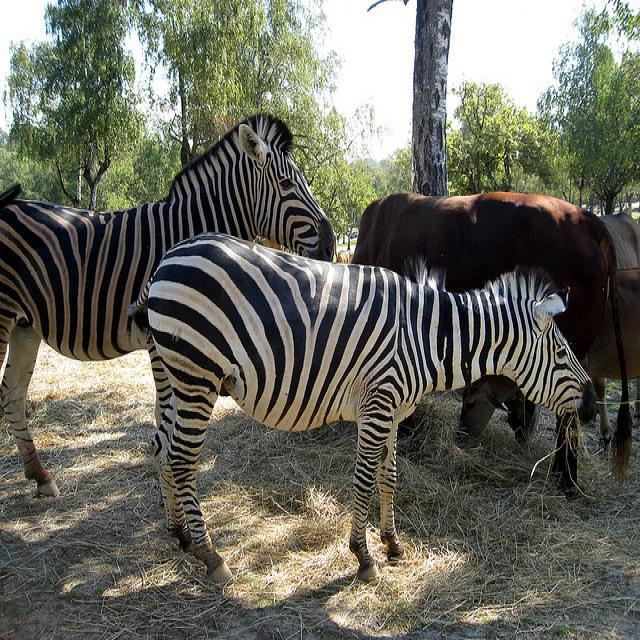cow: (347, 188, 633, 492), (581, 211, 638, 379)
